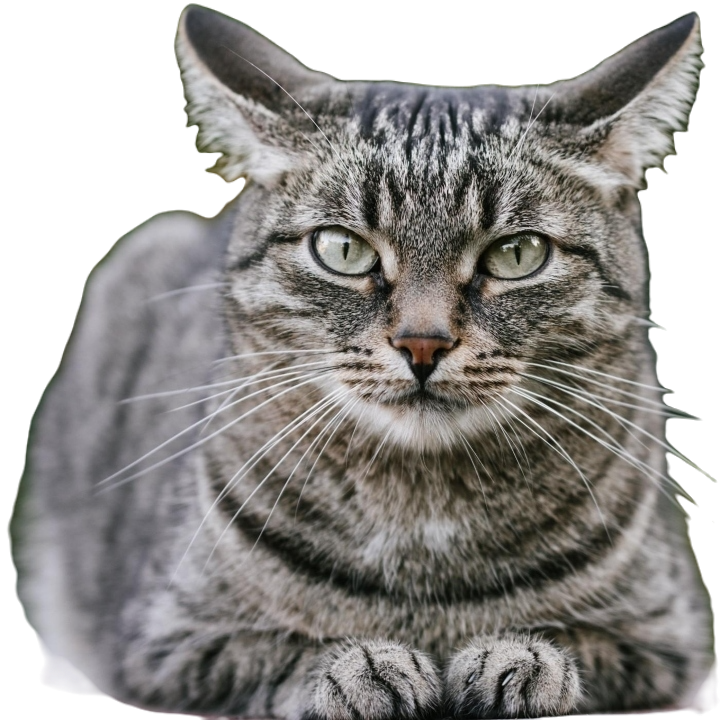Cat: (7, 3, 719, 719)
